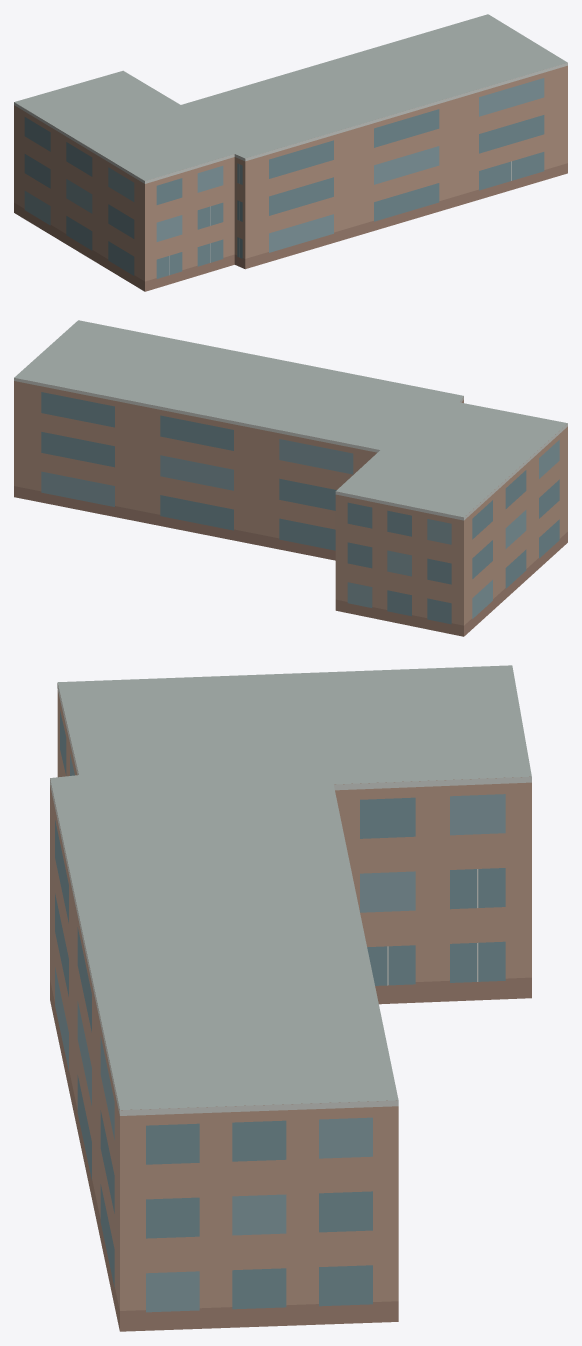
File: survey-upis-32528010.glb
3 views of the same model, one above another, from view 1: azimuth 30°, elevation 25°; view 2: azimuth 150°, elevation 25°; view 3: azimuth 270°, elevation 25° (orthographic). The views are drawn at different scales.
Visible parts, largest first — view 1: survey-upis-32528010.tmp; view 2: survey-upis-32528010.tmp; view 3: survey-upis-32528010.tmp.
Part boxes in pixels (box(x1,y1,x2,y2)): survey-upis-32528010.tmp: box(14, 14, 567, 291); survey-upis-32528010.tmp: box(14, 320, 567, 636); survey-upis-32528010.tmp: box(50, 665, 531, 1331).
Bounding box in the file's own units: 39.43 × 9.15 × 18.06.
